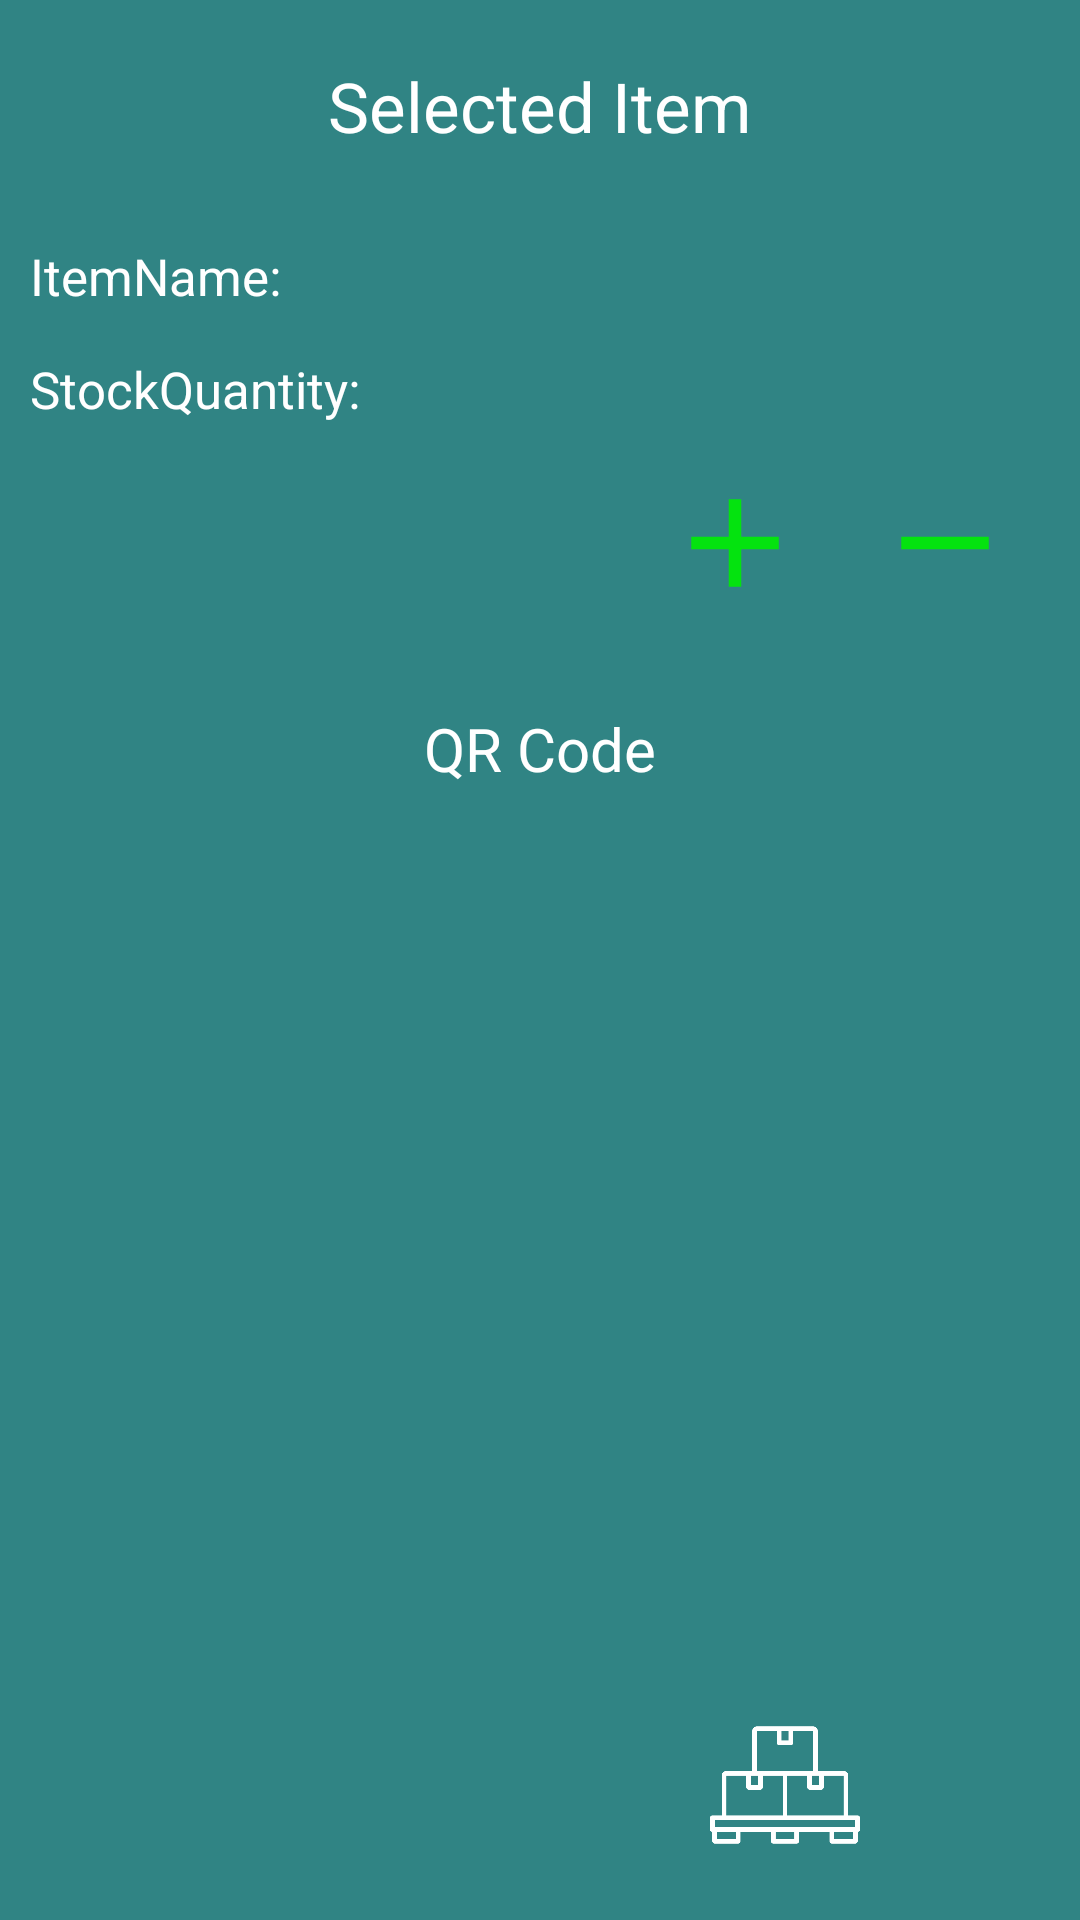

Icons on this 1080px×1920px Android screen, each with its box as region(x1, y1, x2, y2):
add: region(691, 499, 779, 587)
pallet: region(710, 1726, 860, 1844)
